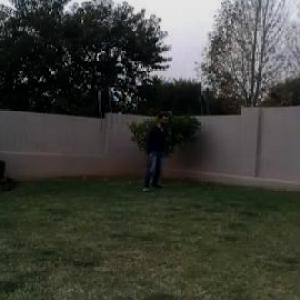follow: (142, 108, 169, 196)
